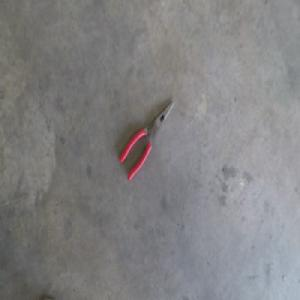Pliers: (118, 102, 175, 183)
